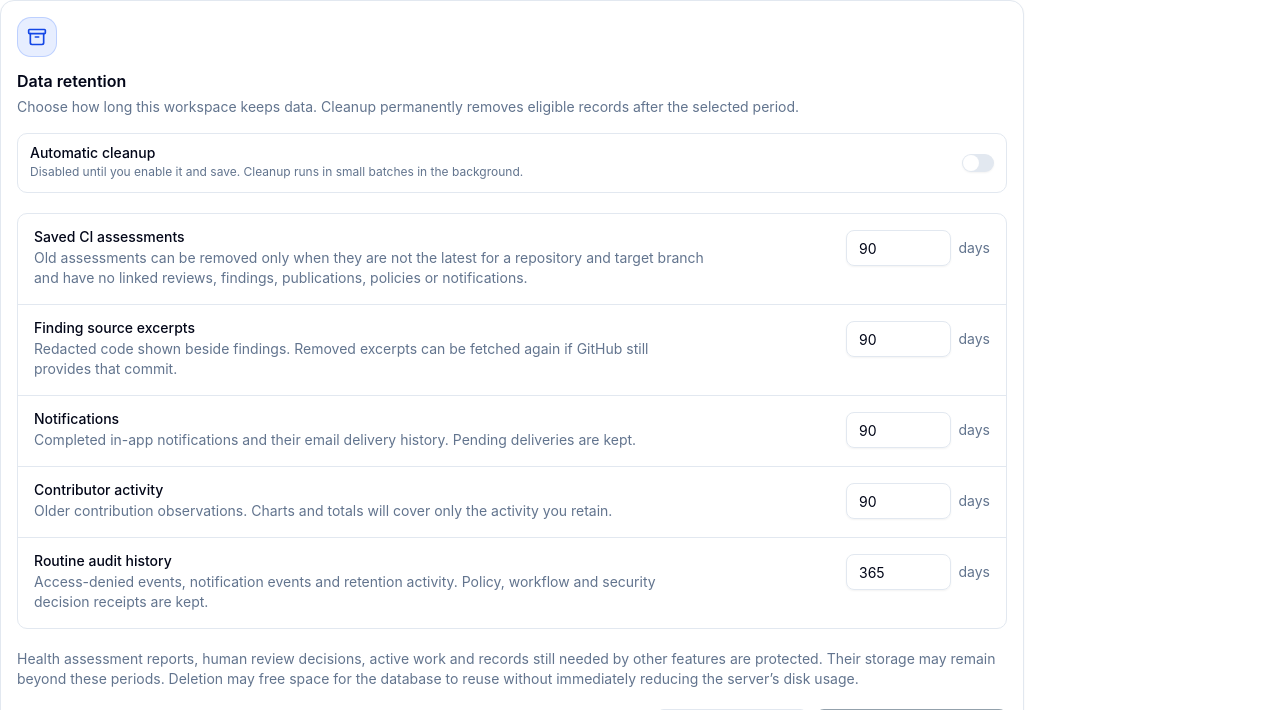
Scenario: validates day ranges and requires saved enabled settings to queue cleanup
The image size is (1280, 710).
Replace the text in the number field labelled "Routine audit history" with "5". click: (898, 572)
box: [846, 554, 950, 590]
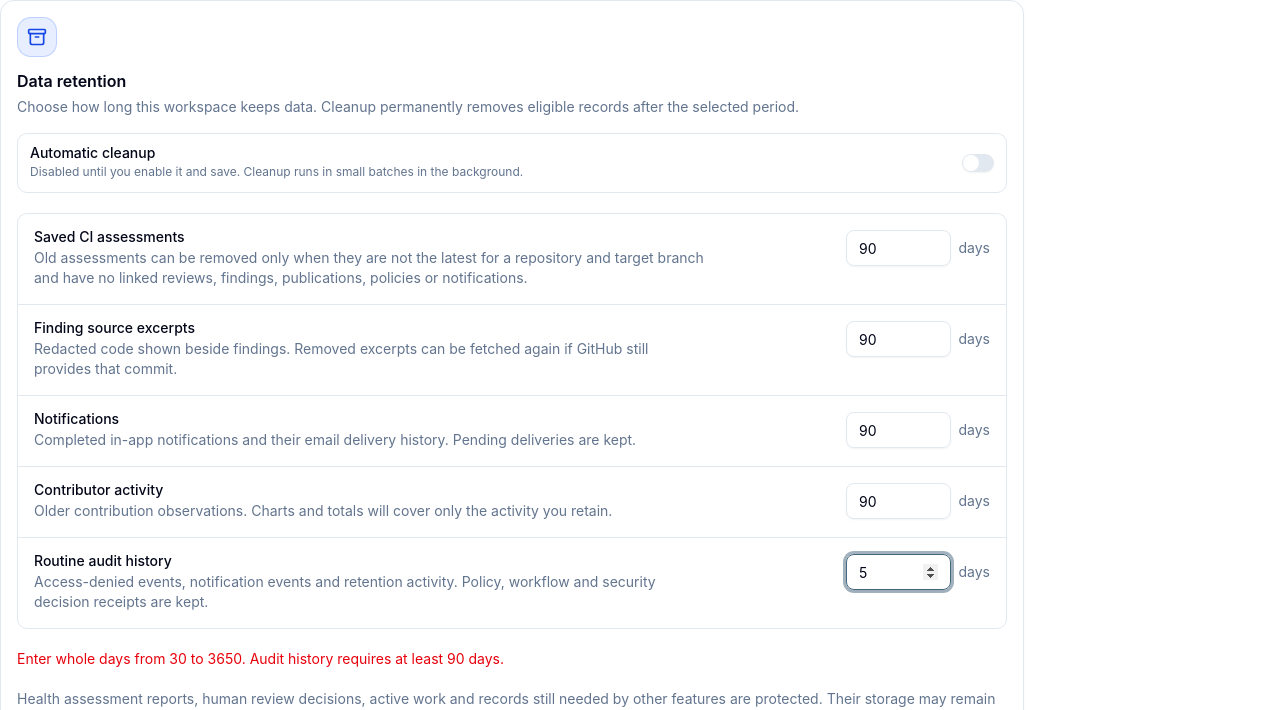
Now the message shows "at least 90 days", box [17, 650, 504, 667]
